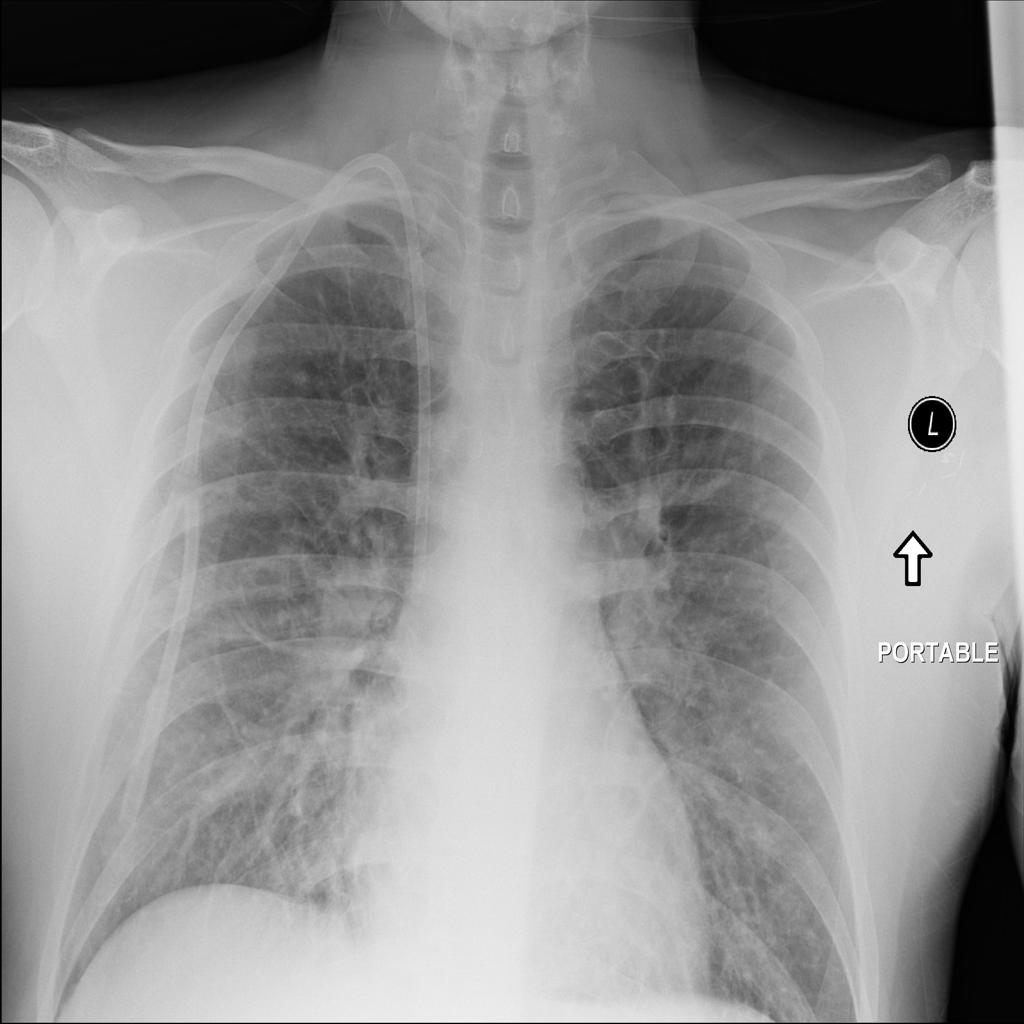nodule: (283, 356, 319, 396)
